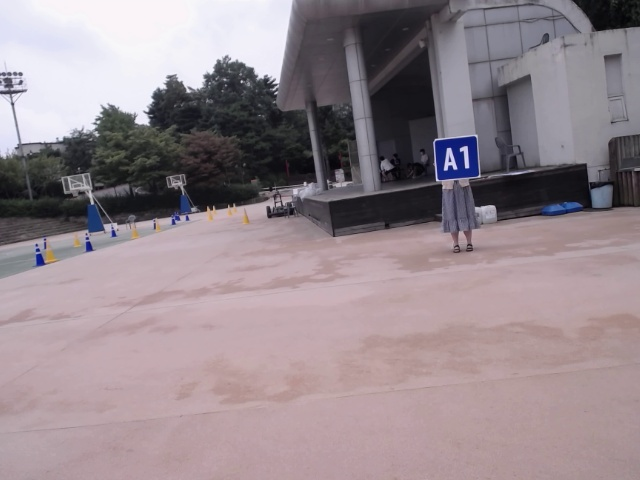delivery_a1: (434, 135, 480, 181)
